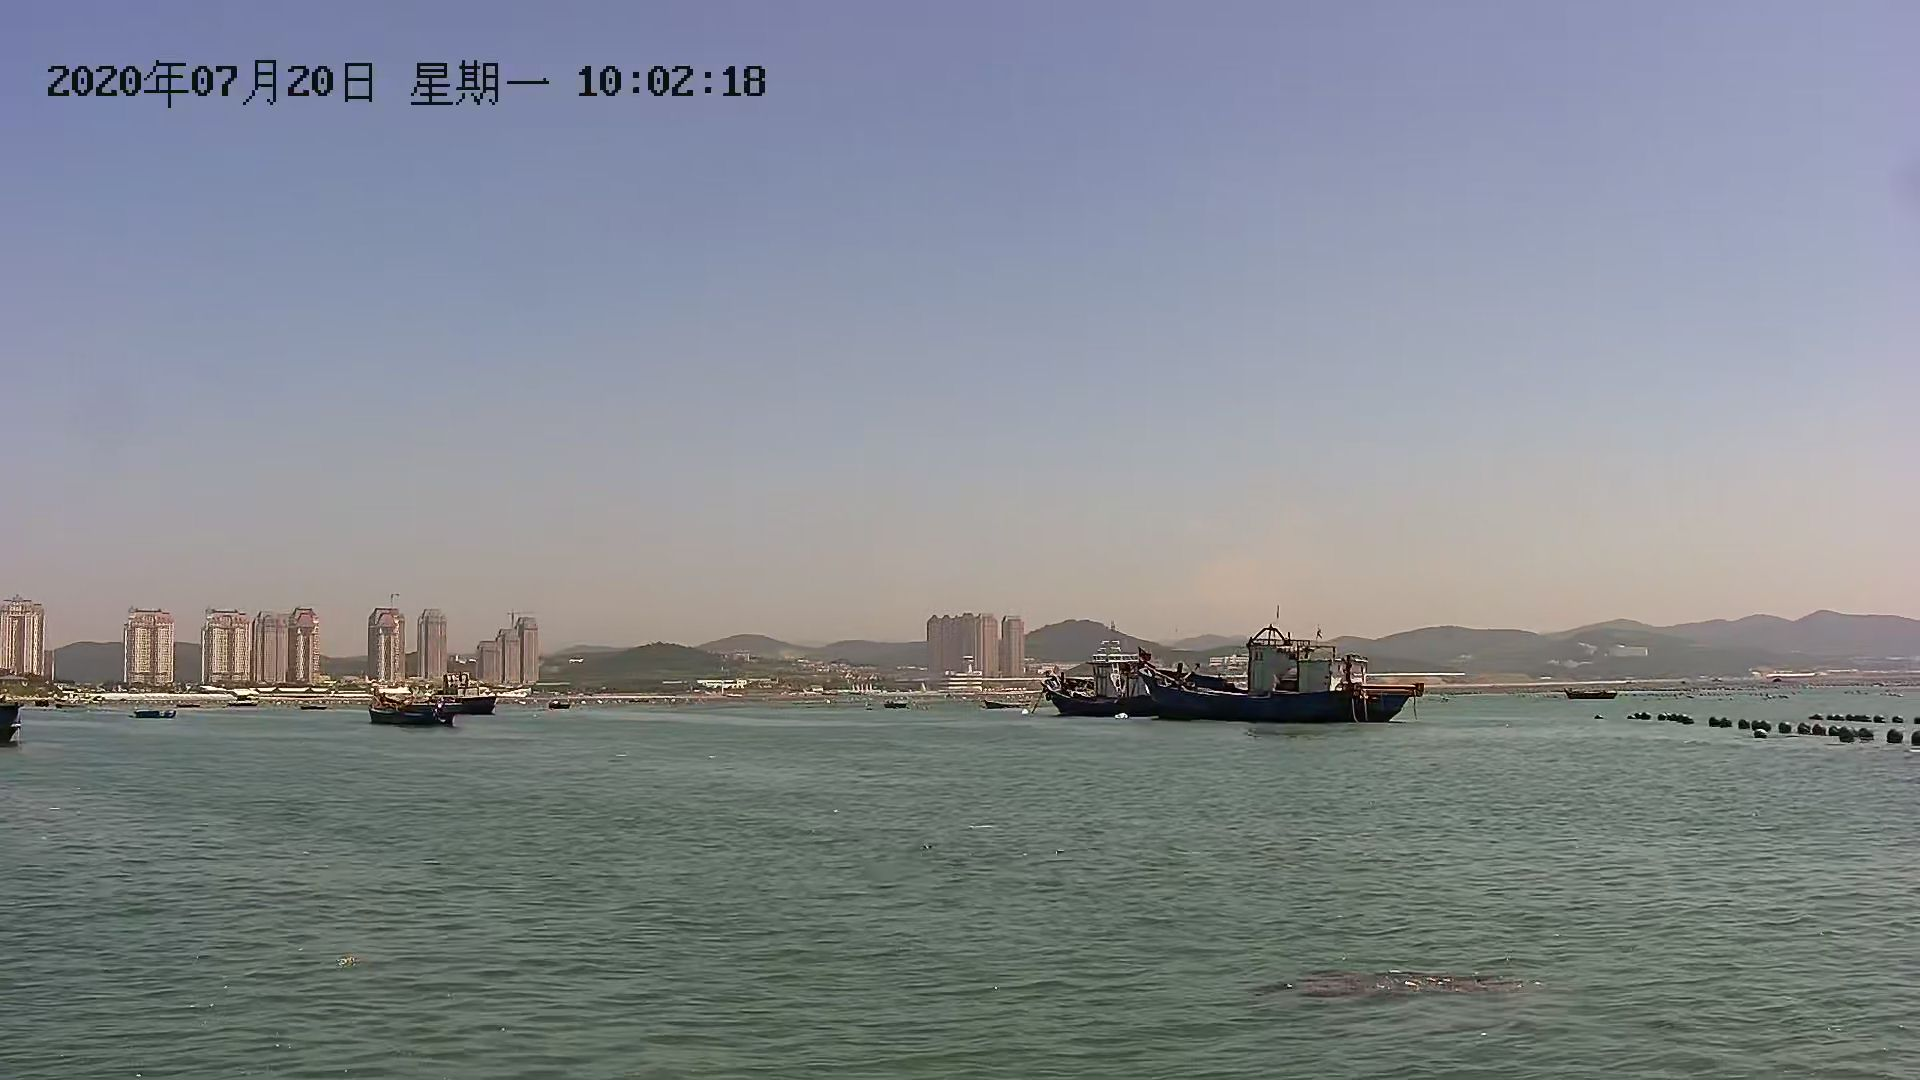boat: (367, 707, 458, 737), (1564, 684, 1619, 702), (128, 705, 178, 723)
ship: (1164, 629, 1433, 724), (1040, 647, 1164, 727), (427, 676, 498, 717)
